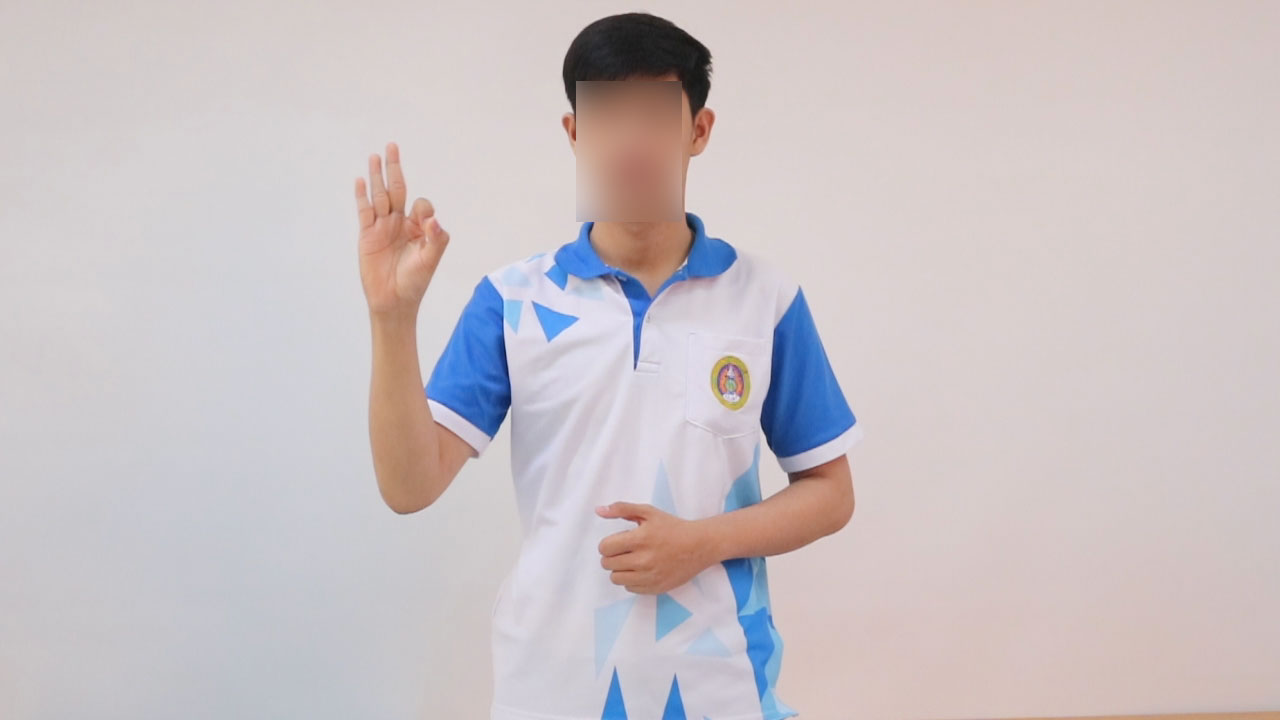for: (338, 130, 460, 337)
